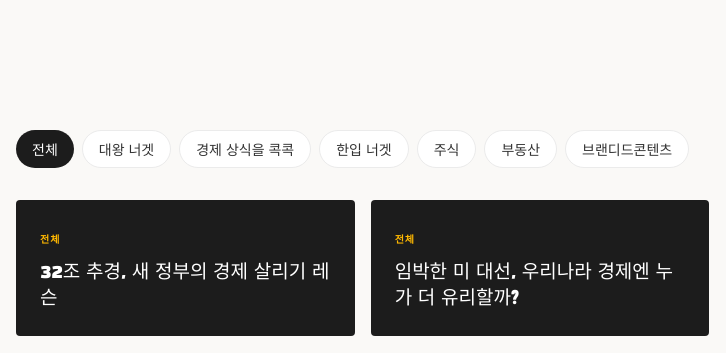
Test: ContentLineup › switches displayed items when a different tab is clicked
Click the button "대왕 너겟" at [127, 149], box [82,130,171,168]
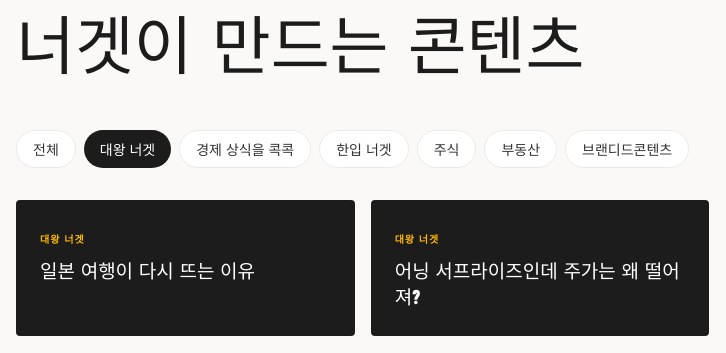
Check: the heading "일본 여행이 다시 뜨는 이유" is shown, box [40,263,255,282]
Check: the heading "32조 추경, 새 정부의 경제 살리기 레슨" is gone
